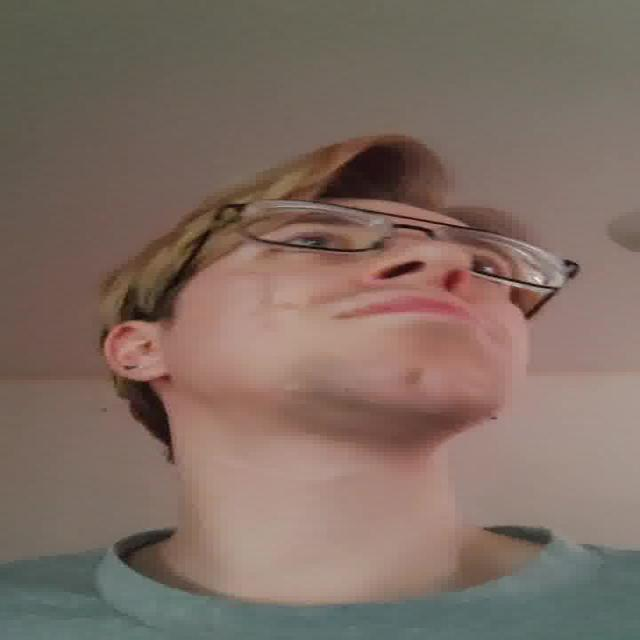earlobe: (117, 364, 169, 382)
eye: (269, 232, 355, 255), (473, 261, 509, 283)
nose: (372, 269, 472, 302)
wholeear: (104, 322, 169, 383)
